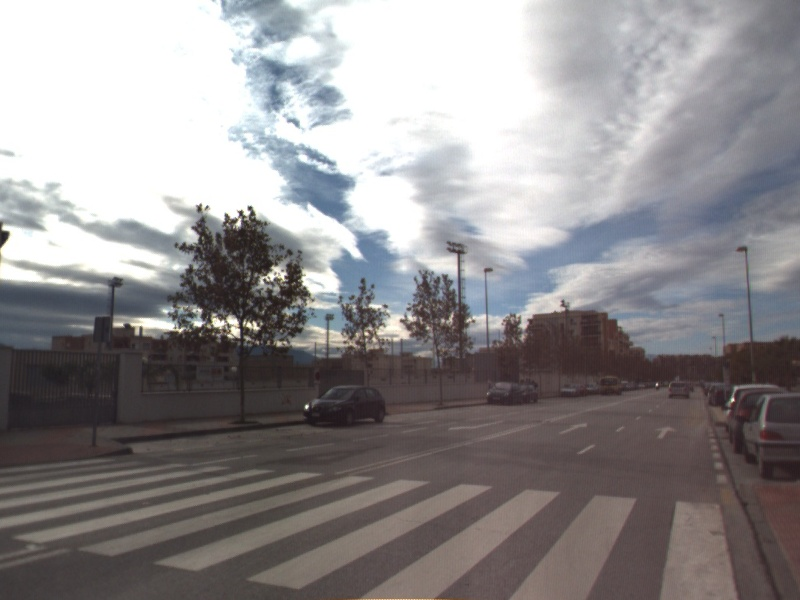STRAIGHT: (556, 420, 590, 436), (653, 424, 680, 441)
